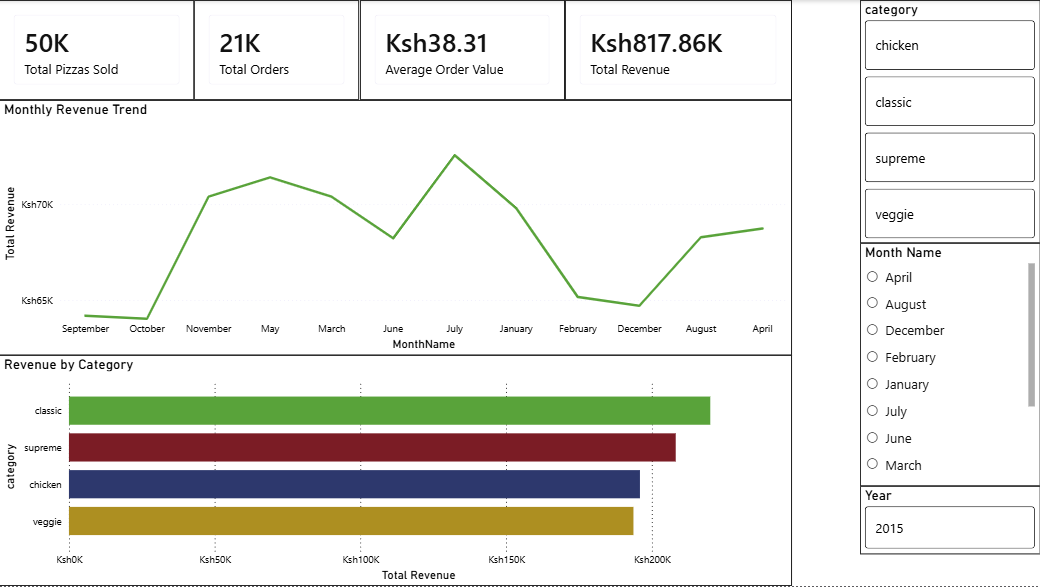

The page's visual inventory and layout, read from the dashboard file:
{"tool":"powerbi","page":{"name":"Page 1","canvas":[1280,720],"ordinal":0},"visuals":[{"type":"cardVisual","fields":{"Data":["Fact_Sales.Total Revenue"]},"box":[695.4,0,278.8,122.6],"z":0},{"type":"cardVisual","fields":{"Data":["Dim_Order.Total Orders"]},"box":[240.2,0,203.3,122.6],"z":1000},{"type":"cardVisual","fields":{"Data":["Dim_Order.Average Order Value"]},"box":[443.5,0,252,122.6],"z":2000},{"type":"cardVisual","fields":{"Data":["Fact_Sales.Total Pizzas Sold"]},"box":[0,0,240.2,122.6],"z":3000},{"type":"lineChart","title":"Monthly Revenue Trend","fields":{"Y":["Fact_Sales.Total Revenue"],"Category":["Dim_Date.MonthName"]},"box":[0,123,975.1,313.5],"z":4000},{"type":"clusteredBarChart","title":"Revenue by Category","fields":{"Category":["Dim_Pizza.category"],"Y":["Fact_Sales.Total Revenue"]},"box":[0,436.5,975.1,284],"z":5000},{"type":"advancedSlicerVisual","fields":{"Values":["Dim_Date.Year"]},"box":[1058.3,598,221.7,84],"z":6000},{"type":"listSlicer","title":"Month Name","fields":{"Values":["Dim_Date.MonthName"]},"box":[1058.3,299,221.7,299],"z":7000},{"type":"advancedSlicerVisual","fields":{"Values":["Dim_Pizza.category"]},"box":[1058.3,0,221.7,299],"z":8000}]}

Visuals, with their boxes in screenshot pixels (x1, y1, x2, y2), scaled from the page's 1280x720 canvas onto the 1040x587 screenshot:
cardVisual - Fact_Sales.Total Revenue: crop(565, 0, 792, 100)
cardVisual - Dim_Order.Total Orders: crop(195, 0, 360, 100)
cardVisual - Dim_Order.Average Order Value: crop(360, 0, 565, 100)
cardVisual - Fact_Sales.Total Pizzas Sold: crop(0, 0, 195, 100)
"Monthly Revenue Trend" lineChart: crop(0, 100, 792, 356)
"Revenue by Category" clusteredBarChart: crop(0, 356, 792, 586)
advancedSlicerVisual - Dim_Date.Year: crop(860, 488, 1039, 556)
"Month Name" listSlicer: crop(860, 244, 1039, 488)
advancedSlicerVisual - Dim_Pizza.category: crop(860, 0, 1039, 244)
